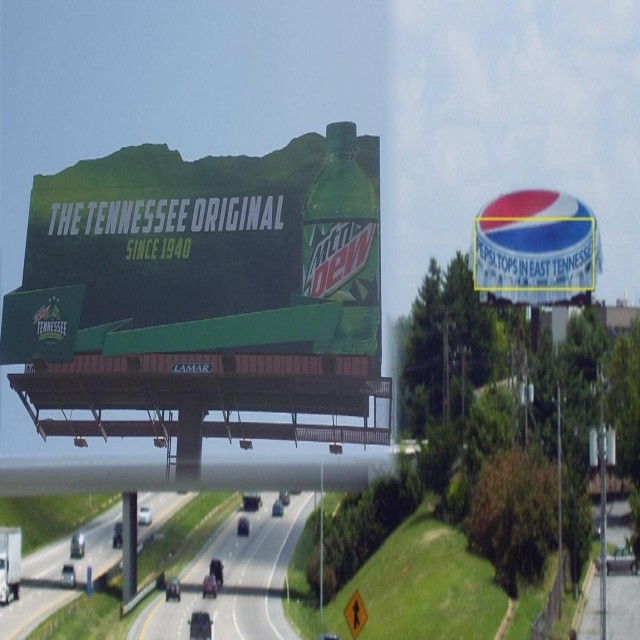pepsi: (477, 186, 597, 264)
